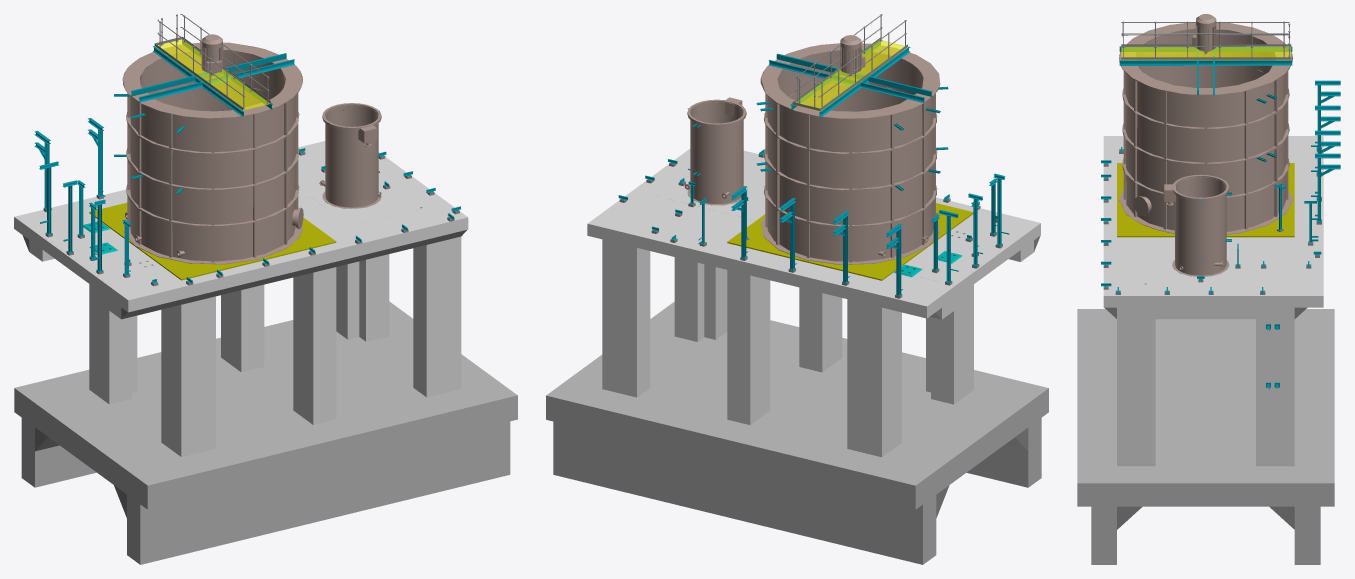
Rendered from FTANK3D.glb.
3 renders of one model, left to right at view 1: azimuth 30°, elevation 25°; view 2: azimuth 150°, elevation 25°; view 3: azimuth 270°, elevation 25°, orthographic. The views are drawn at different scales.
Visible parts, largest first — view 1: BOX_6_of_SUBSTRUCTURE_39_of_STRUCTURE_FeedTankPlatformNewdgn, CYLINDER_1_of_SUBEQUIPMENT_1_of_EQUIPMENT_C44-TA-03-, BOX_3_of_SUBSTRUCTURE_11_of_STRUCTURE_FeedTankPlatformNewdgn, BOX_3_of_SUBSTRUCTURE_39_of_STRUCTURE_FeedTankPlatformNewdgn, POHEDRON_2_of_SUBSTRUCTURE_14_of_STRUCTURE_FeedTankPlatformN, BOX_2_of_SUBSTRUCTURE_15_of_STRUCTURE_FeedTankPlatformNewdgn, CYLINDER_1_of_SUBEQUIPMENT_2_of_EQUIPMENT_C44-TA-06, BOX_4_of_SUBSTRUCTURE_36_of_STRUCTURE_FeedTankPlatformNewdgn, BOX_161_of_SUBSTRUCTURE_37_of_STRUCTURE_FeedTankPlatformNewd, BOX_4_of_SUBSTRUCTURE_39_of_STRUCTURE_FeedTankPlatformNewdgn, CYLINDER_7_of_SUBEQUIPMENT_1_of_EQUIPMENT_C44-TA-03-, BOX_3_of_SUBSTRUCTURE_36_of_STRUCTURE_FeedTankPlatformNewdgn (+31 smaller); view 2: BOX_6_of_SUBSTRUCTURE_39_of_STRUCTURE_FeedTankPlatformNewdgn, CYLINDER_1_of_SUBEQUIPMENT_1_of_EQUIPMENT_C44-TA-03-, BOX_1_of_SUBSTRUCTURE_10_of_STRUCTURE_FeedTankPlatformNewdgn, BOX_1_of_SUBSTRUCTURE_39_of_STRUCTURE_FeedTankPlatformNewdgn, POHEDRON_4_of_SUBSTRUCTURE_12_of_STRUCTURE_FeedTankPlatformN, BOX_2_of_SUBSTRUCTURE_13_of_STRUCTURE_FeedTankPlatformNewdgn, CYLINDER_1_of_SUBEQUIPMENT_2_of_EQUIPMENT_C44-TA-06, BOX_72_of_SUBSTRUCTURE_37_of_STRUCTURE_FeedTankPlatformNewdg, BOX_4_of_SUBSTRUCTURE_35_of_STRUCTURE_FeedTankPlatformNewdgn, BOX_66_of_SUBSTRUCTURE_37_of_STRUCTURE_FeedTankPlatformNewdg, BOX_4_of_SUBSTRUCTURE_39_of_STRUCTURE_FeedTankPlatformNewdgn, CYLINDER_7_of_SUBEQUIPMENT_1_of_EQUIPMENT_C44-TA-03- (+33 smaller); view 3: BOX_6_of_SUBSTRUCTURE_39_of_STRUCTURE_FeedTankPlatformNewdgn, CYLINDER_1_of_SUBEQUIPMENT_1_of_EQUIPMENT_C44-TA-03-, BOX_8_of_SUBSTRUCTURE_14_of_STRUCTURE_FeedTankPlatformNewdgn, BOX_8_of_SUBSTRUCTURE_12_of_STRUCTURE_FeedTankPlatformNewdgn, BOX_2_of_SUBSTRUCTURE_39_of_STRUCTURE_FeedTankPlatformNewdgn, CYLINDER_1_of_SUBEQUIPMENT_2_of_EQUIPMENT_C44-TA-06, BOX_72_of_SUBSTRUCTURE_37_of_STRUCTURE_FeedTankPlatformNewdg, CYLINDER_7_of_SUBEQUIPMENT_1_of_EQUIPMENT_C44-TA-03-, BOX_7_of_SUBSTRUCTURE_28_of_STRUCTURE_FeedTankPlatformNewdgn, BOX_1_of_SUBSTRUCTURE_1_of_STRUCTURE_2_of_ZONE_C44-TA-03, EXTRUSION_1_of_SUBSTRUCTURE_9_of_STRUCTURE_FeedTankPlatformN, BOX_154_of_SUBSTRUCTURE_37_of_STRUCTURE_FeedTankPlatformNewd (+27 smaller).
Part boxes in pixels (x1=…): BOX_6_of_SUBSTRUCTURE_39_of_STRUCTURE_FeedTankPlatformNewdgn: x1=15, y1=301, x2=517, y2=485; CYLINDER_1_of_SUBEQUIPMENT_1_of_EQUIPMENT_C44-TA-03-: x1=130, y1=50, x2=296, y2=261; BOX_3_of_SUBSTRUCTURE_11_of_STRUCTURE_FeedTankPlatformNewdgn: x1=140, y1=421, x2=510, y2=564; BOX_3_of_SUBSTRUCTURE_39_of_STRUCTURE_FeedTankPlatformNewdgn: x1=148, y1=395, x2=517, y2=509; POHEDRON_2_of_SUBSTRUCTURE_14_of_STRUCTURE_FeedTankPlatformN: x1=426, y1=236, x2=461, y2=397; BOX_2_of_SUBSTRUCTURE_15_of_STRUCTURE_FeedTankPlatformNewdgn: x1=181, y1=296, x2=215, y2=456; CYLINDER_1_of_SUBEQUIPMENT_2_of_EQUIPMENT_C44-TA-06: x1=325, y1=105, x2=378, y2=207; BOX_4_of_SUBSTRUCTURE_36_of_STRUCTURE_FeedTankPlatformNewdgn: x1=313, y1=267, x2=336, y2=424; BOX_161_of_SUBSTRUCTURE_37_of_STRUCTURE_FeedTankPlatformNewd: x1=128, y1=220, x2=468, y2=312; BOX_4_of_SUBSTRUCTURE_39_of_STRUCTURE_FeedTankPlatformNewdgn: x1=14, y1=388, x2=147, y2=509; CYLINDER_7_of_SUBEQUIPMENT_1_of_EQUIPMENT_C44-TA-03-: x1=122, y1=42, x2=302, y2=118; BOX_3_of_SUBSTRUCTURE_36_of_STRUCTURE_FeedTankPlatformNewdgn: x1=293, y1=272, x2=313, y2=424; BOX_6_of_SUBSTRUCTURE_39_of_STRUCTURE_FeedTankPlatformNewdgn: x1=546, y1=301, x2=1048, y2=485; CYLINDER_1_of_SUBEQUIPMENT_1_of_EQUIPMENT_C44-TA-03-: x1=767, y1=51, x2=933, y2=261; BOX_1_of_SUBSTRUCTURE_10_of_STRUCTURE_FeedTankPlatformNewdgn: x1=553, y1=421, x2=922, y2=564; BOX_1_of_SUBSTRUCTURE_39_of_STRUCTURE_FeedTankPlatformNewdgn: x1=546, y1=395, x2=915, y2=509; POHEDRON_4_of_SUBSTRUCTURE_12_of_STRUCTURE_FeedTankPlatformN: x1=602, y1=239, x2=636, y2=397; BOX_2_of_SUBSTRUCTURE_13_of_STRUCTURE_FeedTankPlatformNewdgn: x1=847, y1=299, x2=881, y2=457; CYLINDER_1_of_SUBEQUIPMENT_2_of_EQUIPMENT_C44-TA-06: x1=690, y1=102, x2=743, y2=203; BOX_72_of_SUBSTRUCTURE_37_of_STRUCTURE_FeedTankPlatformNewdg: x1=591, y1=213, x2=938, y2=304; BOX_4_of_SUBSTRUCTURE_35_of_STRUCTURE_FeedTankPlatformNewdgn: x1=727, y1=270, x2=750, y2=424; BOX_66_of_SUBSTRUCTURE_37_of_STRUCTURE_FeedTankPlatformNewdg: x1=587, y1=226, x2=926, y2=318; BOX_4_of_SUBSTRUCTURE_39_of_STRUCTURE_FeedTankPlatformNewdgn: x1=915, y1=388, x2=1048, y2=509; CYLINDER_7_of_SUBEQUIPMENT_1_of_EQUIPMENT_C44-TA-03-: x1=760, y1=43, x2=940, y2=119; BOX_6_of_SUBSTRUCTURE_39_of_STRUCTURE_FeedTankPlatformNewdgn: x1=1077, y1=309, x2=1334, y2=483; CYLINDER_1_of_SUBEQUIPMENT_1_of_EQUIPMENT_C44-TA-03-: x1=1125, y1=29, x2=1286, y2=231; BOX_8_of_SUBSTRUCTURE_14_of_STRUCTURE_FeedTankPlatformNewdgn: x1=1117, y1=298, x2=1155, y2=466; BOX_8_of_SUBSTRUCTURE_12_of_STRUCTURE_FeedTankPlatformNewdgn: x1=1256, y1=298, x2=1294, y2=466; BOX_2_of_SUBSTRUCTURE_39_of_STRUCTURE_FeedTankPlatformNewdgn: x1=1077, y1=483, x2=1334, y2=506; CYLINDER_1_of_SUBEQUIPMENT_2_of_EQUIPMENT_C44-TA-06: x1=1175, y1=177, x2=1226, y2=275; BOX_72_of_SUBSTRUCTURE_37_of_STRUCTURE_FeedTankPlatformNewdg: x1=1294, y1=137, x2=1321, y2=294; CYLINDER_7_of_SUBEQUIPMENT_1_of_EQUIPMENT_C44-TA-03-: x1=1119, y1=23, x2=1292, y2=95; BOX_7_of_SUBSTRUCTURE_28_of_STRUCTURE_FeedTankPlatformNewdgn: x1=1155, y1=298, x2=1255, y2=319; BOX_1_of_SUBSTRUCTURE_1_of_STRUCTURE_2_of_ZONE_C44-TA-03: x1=1121, y1=46, x2=1290, y2=60; EXTRUSION_1_of_SUBSTRUCTURE_9_of_STRUCTURE_FeedTankPlatformN: x1=1117, y1=163, x2=1294, y2=235; BOX_154_of_SUBSTRUCTURE_37_of_STRUCTURE_FeedTankPlatformNewd: x1=1106, y1=137, x2=1116, y2=294.
Size of the model in its own units: 0.6558 by 0.7468 by 0.4095.
